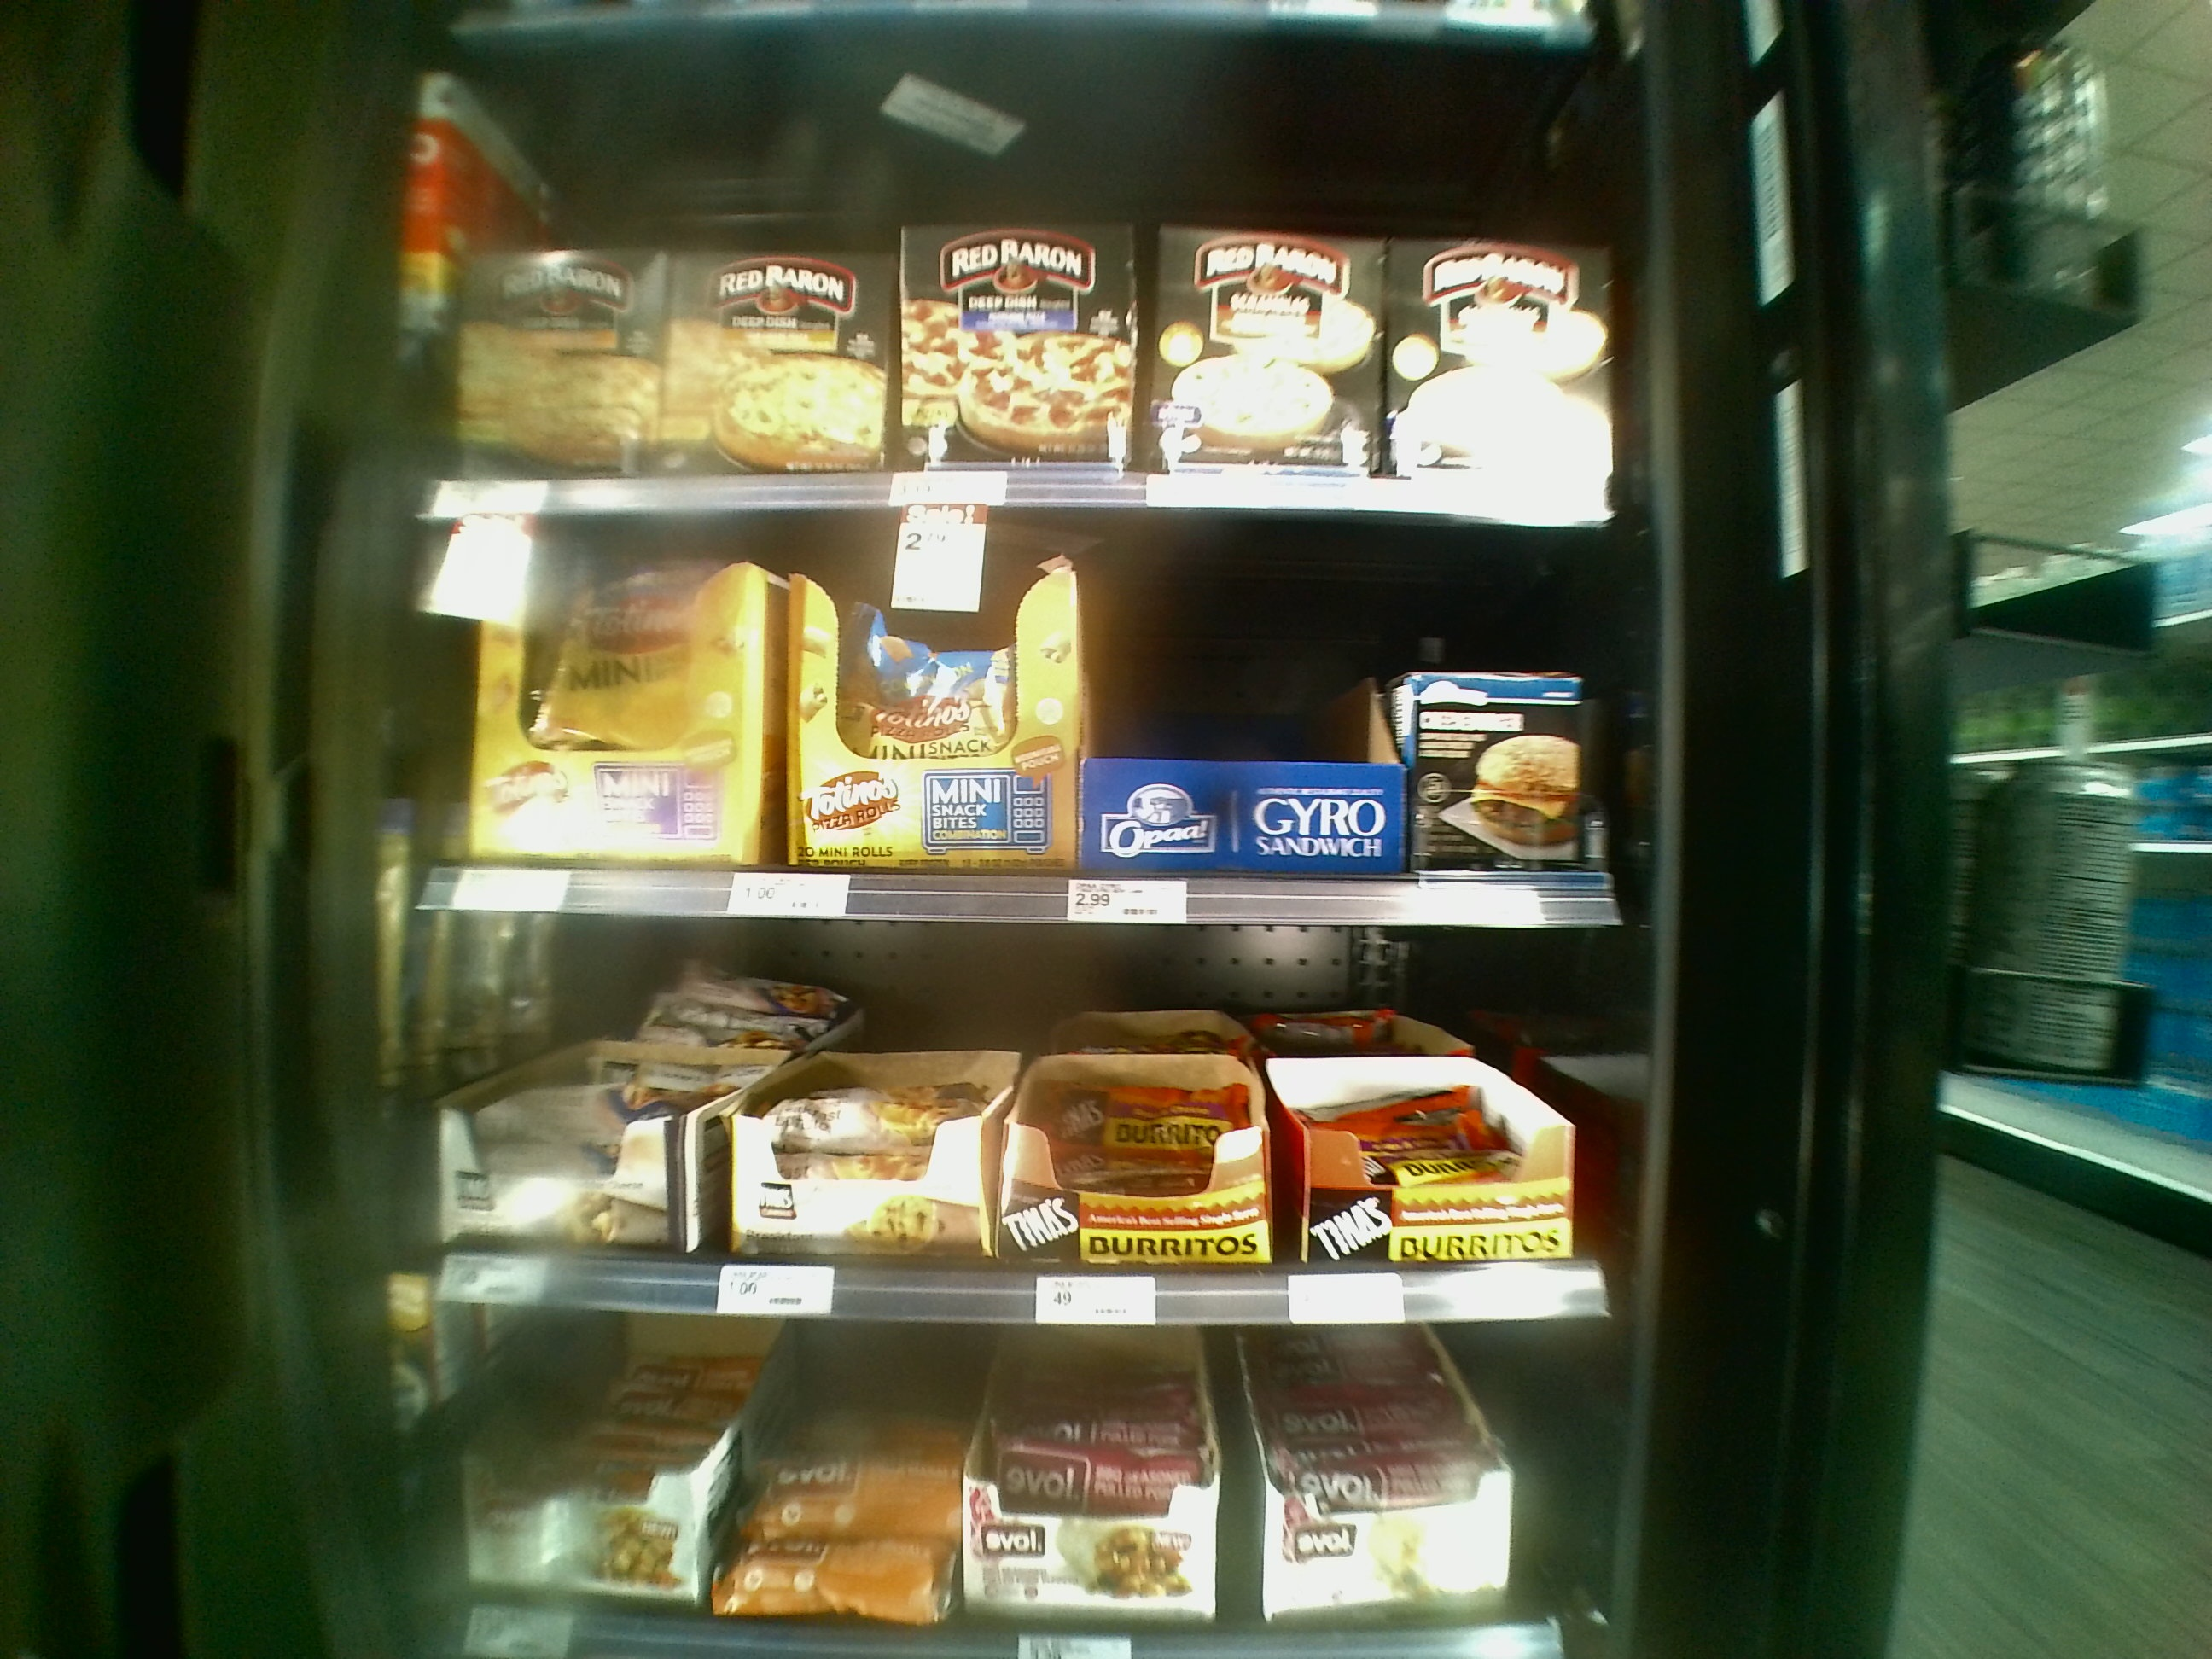shelf: (448, 33, 1648, 511), (418, 518, 1642, 925), (428, 929, 1611, 1316), (442, 1312, 1608, 1659)
